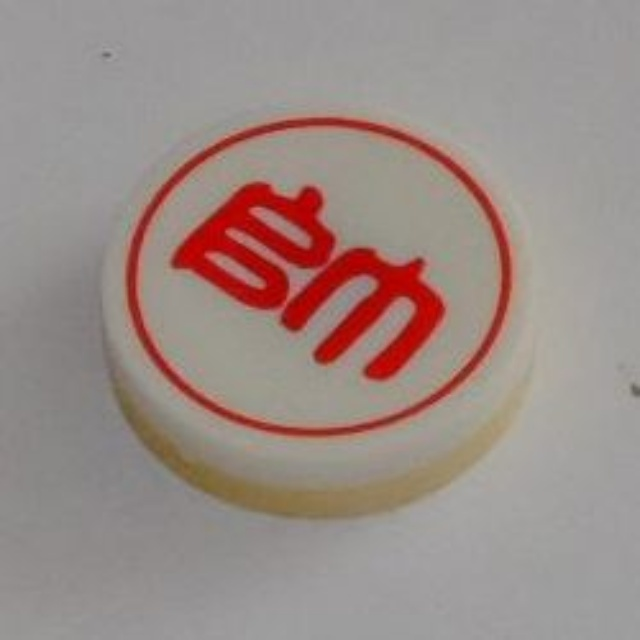red_tuong: (85, 90, 547, 517)
